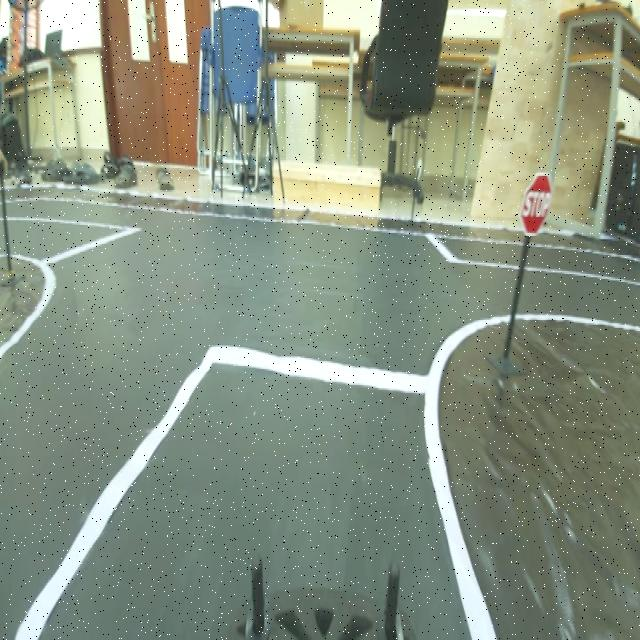stop: (522, 159, 554, 245)
